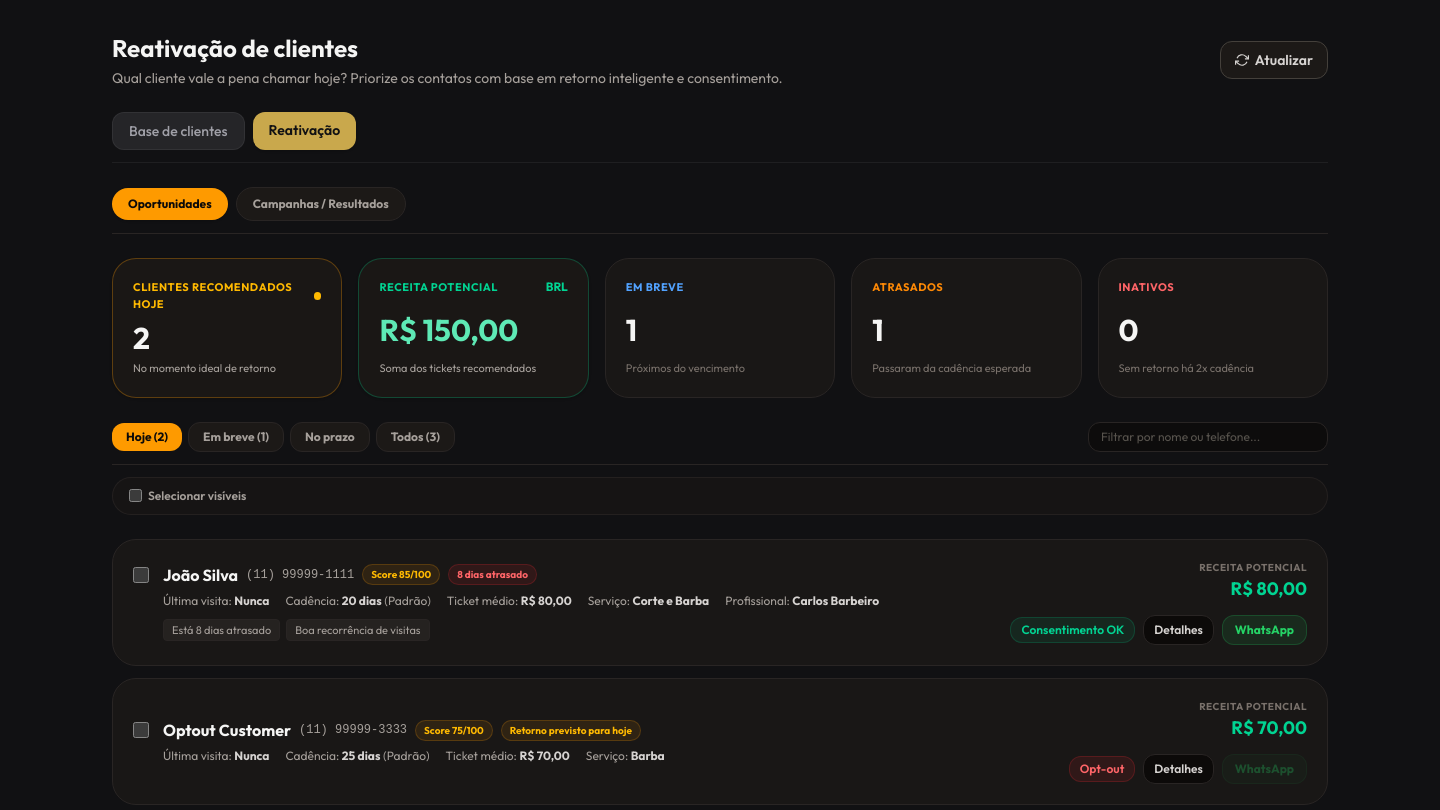
Test case: Smart CRM R4 — UI Component Tests › opens explainability drawer when clicking Detalhes
expect the text "João Silva" is shown: met, box x1=163 y1=563 x2=238 y2=587
Click the button "Detalhes" next to "Consentimento OK": (1178, 630) x1=1143 y1=614 x2=1214 y2=644
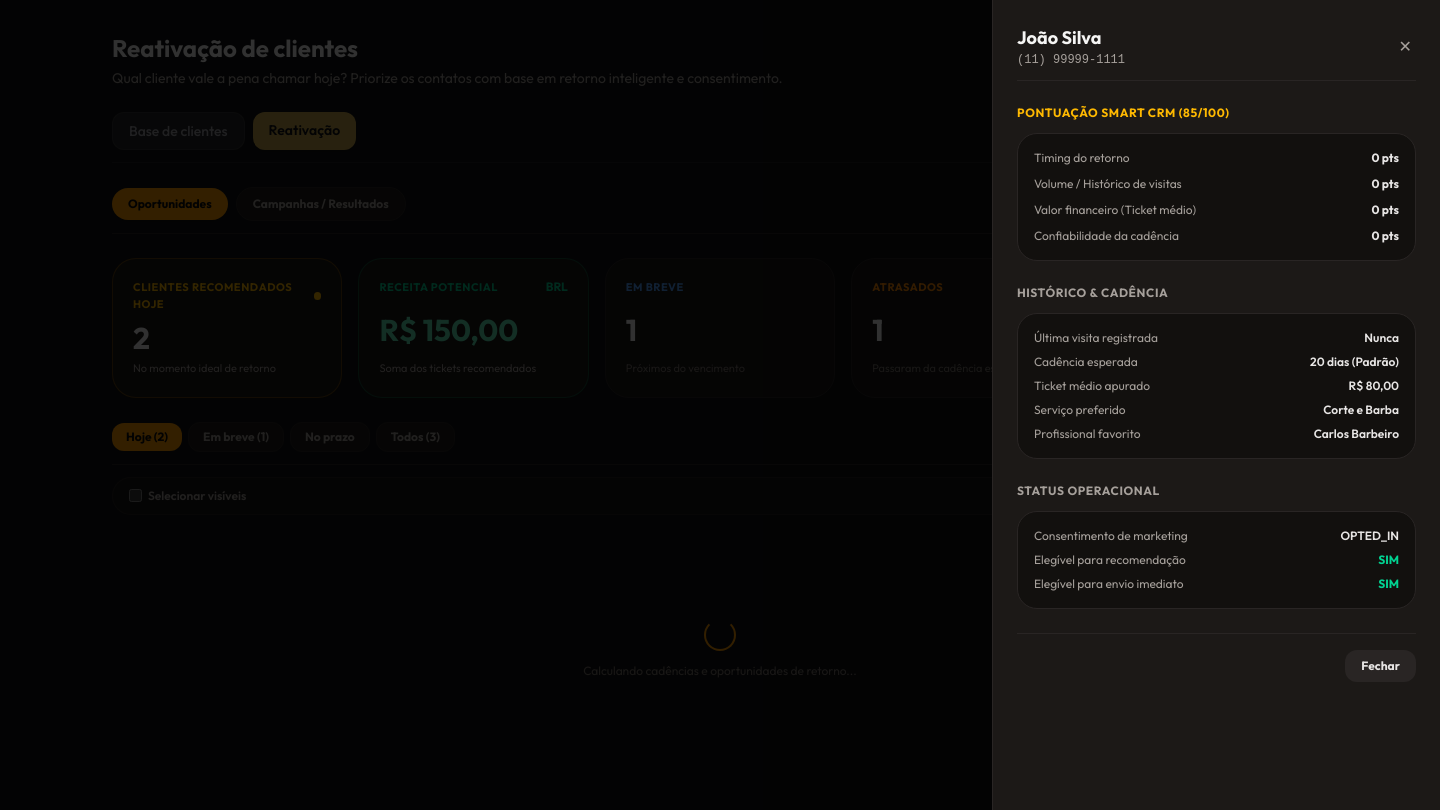
expect the heading "Pontuação Smart CRM (85/100)" is shown: met, box x1=1017 y1=105 x2=1230 y2=120
expect the text "Timing do retorno" is shown: met, box x1=1034 y1=150 x2=1130 y2=166
expect the text "Volume / Histórico de visitas" is shown: met, box x1=1034 y1=176 x2=1182 y2=192
Note: Close drawer
Click the button "Fechar": (1381, 666) x1=1345 y1=650 x2=1416 y2=682
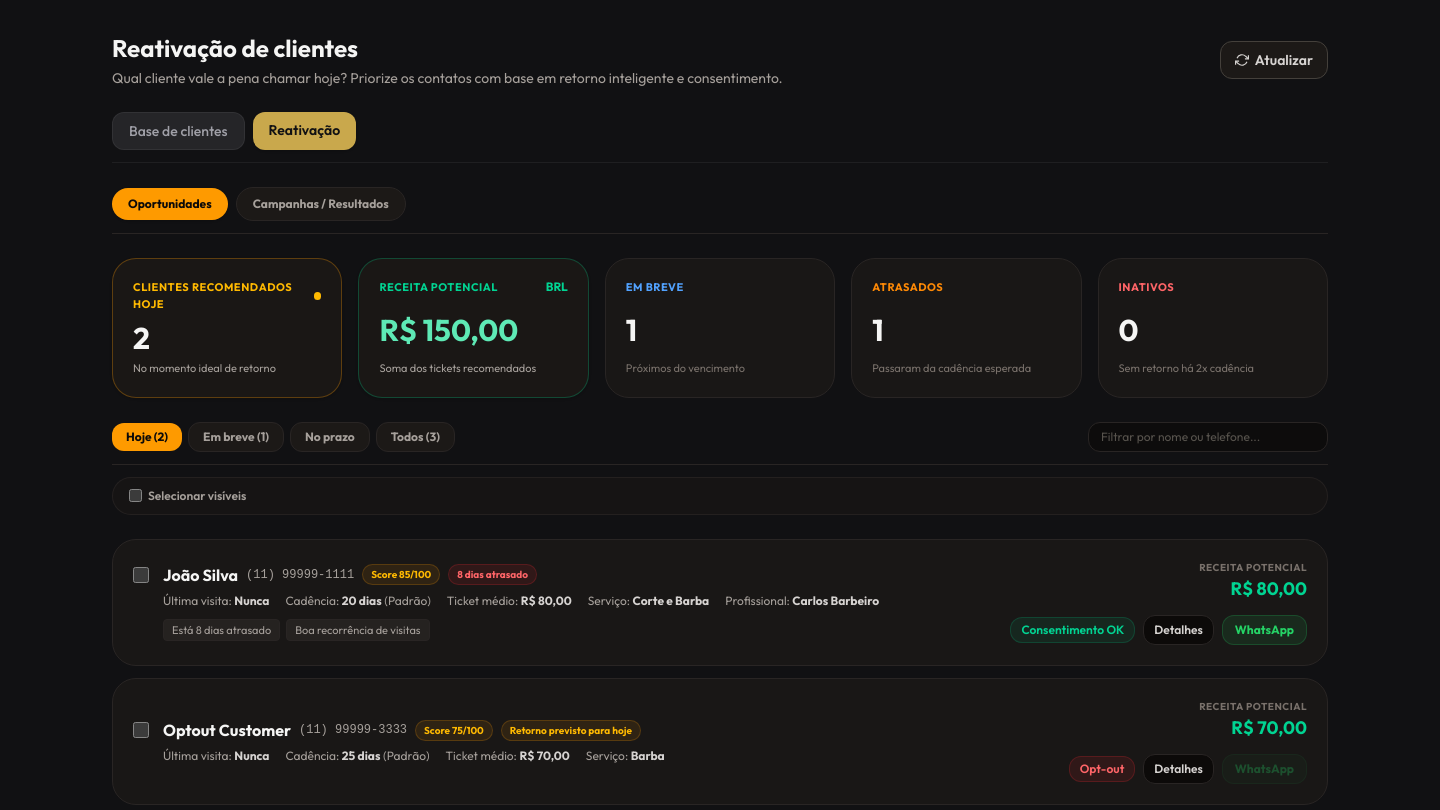
expect the heading "Pontuação Smart CRM (85/100)" is gone: met
